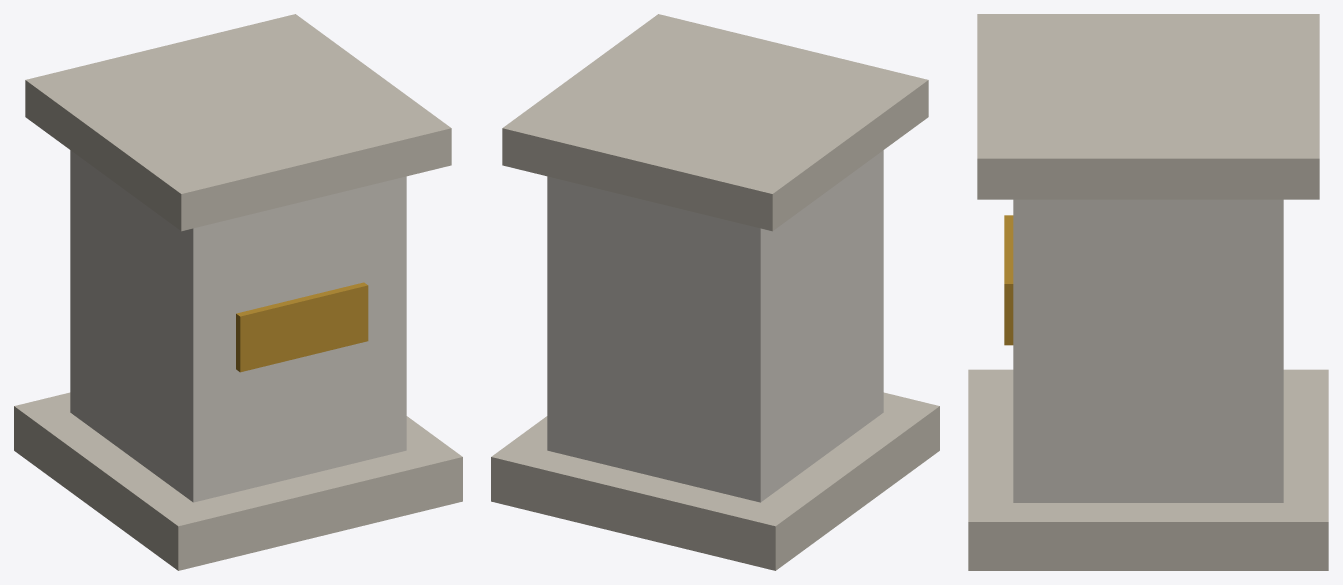
Rendered from ncb-cup-pedestal.glb.
3 views of the same model, side by side, from view 1: azimuth 30°, elevation 25°; view 2: azimuth 150°, elevation 25°; view 3: azimuth 270°, elevation 25° (orthographic). The views are drawn at different scales.
Visible parts, largest first — view 1: box-prop; view 2: box-prop; view 3: box-prop.
Boxes of the visible parts, box(x1,y1,x2,y2) form: box-prop: box(14, 14, 462, 570); box-prop: box(491, 14, 939, 570); box-prop: box(968, 14, 1328, 570).
Bounding box in the file's own units: 0.8 × 1 × 0.8.
